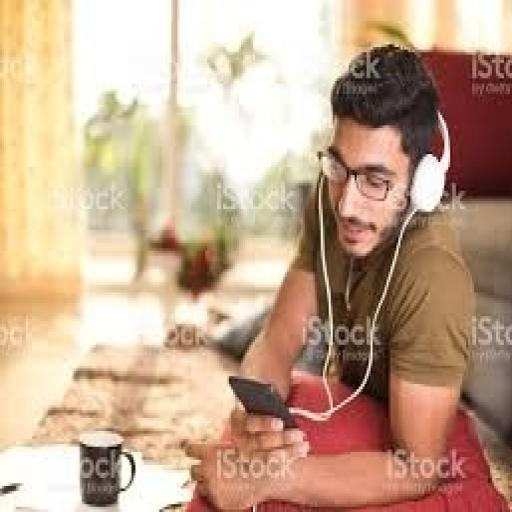listening_to_music: (179, 42, 506, 509)
